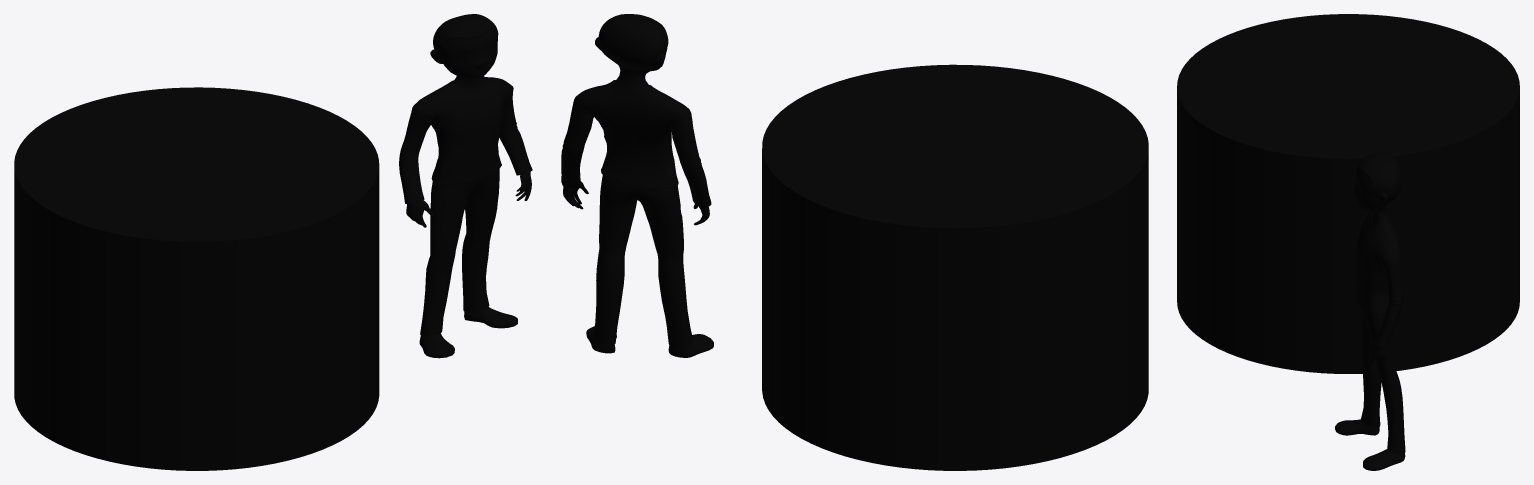
3 renders of one model, left to right at view 1: azimuth 30°, elevation 25°; view 2: azimuth 150°, elevation 25°; view 3: azimuth 270°, elevation 25°, orthographic. The views are drawn at different scales.
Parts seen in each view (by area): view 1: root (×2); view 2: root (×2); view 3: root (×2).
Boxes of the visible parts, x1,y1,x2,y2 form: root (×2): [14, 14, 532, 470]; root (×2): [561, 14, 1148, 470]; root (×2): [1177, 14, 1519, 470].
Size of the model in its own units: 0.4678 by 0.272 by 0.2893.
Materials: 2 (1 with a texture image).
